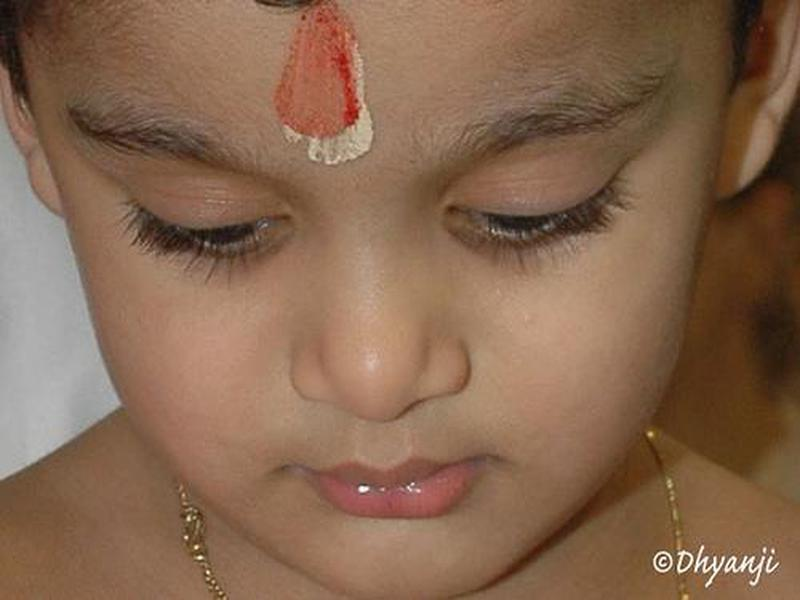person: (1, 2, 796, 600)
